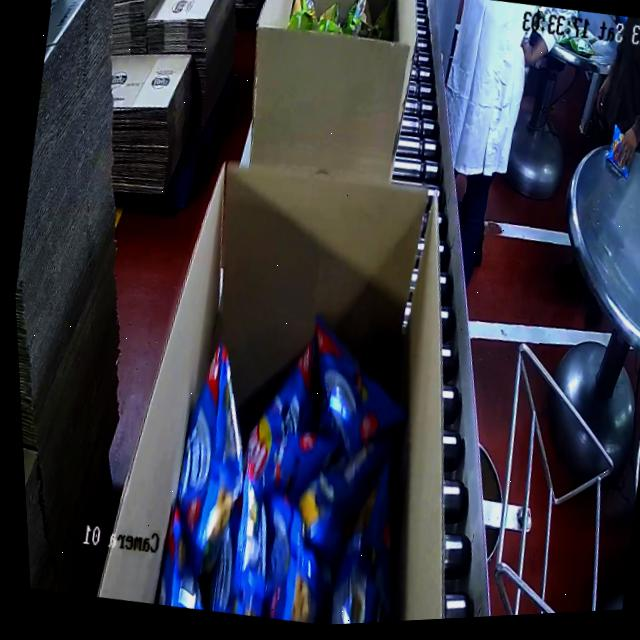PAPRIKA: (152, 275, 435, 633)
